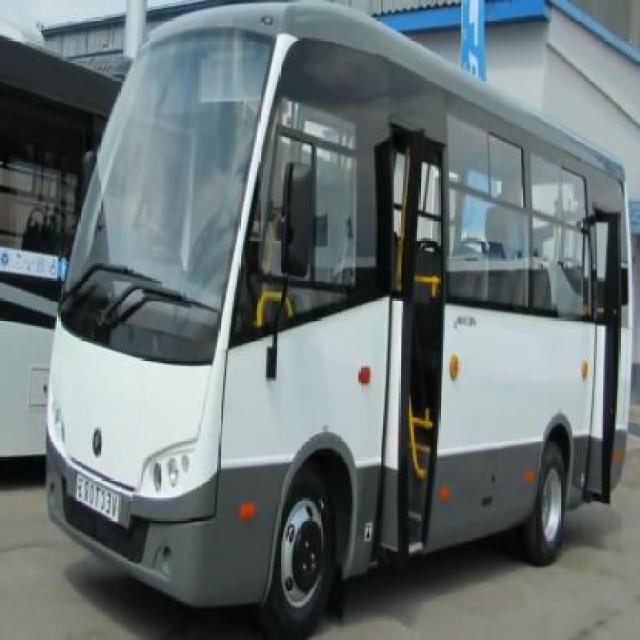bus: (41, 2, 628, 630), (0, 20, 126, 471)
